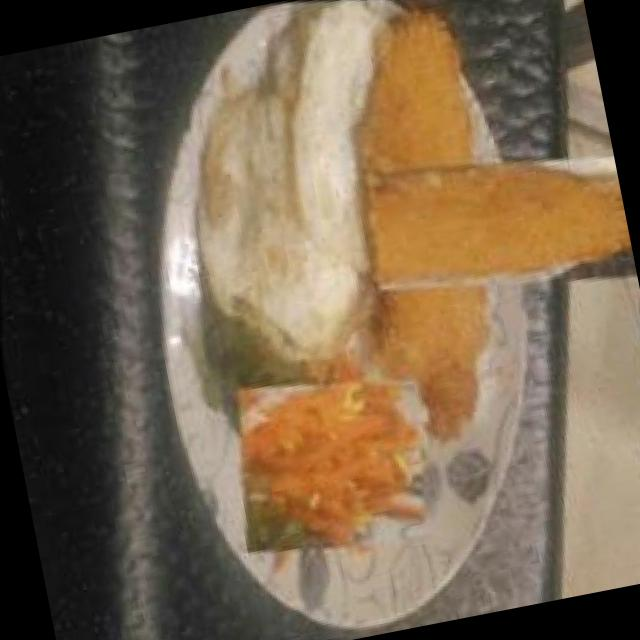carrot_eggs: (216, 351, 445, 580)
fried_chicken: (237, 41, 610, 414)
fried_eggs: (134, 0, 430, 391)
